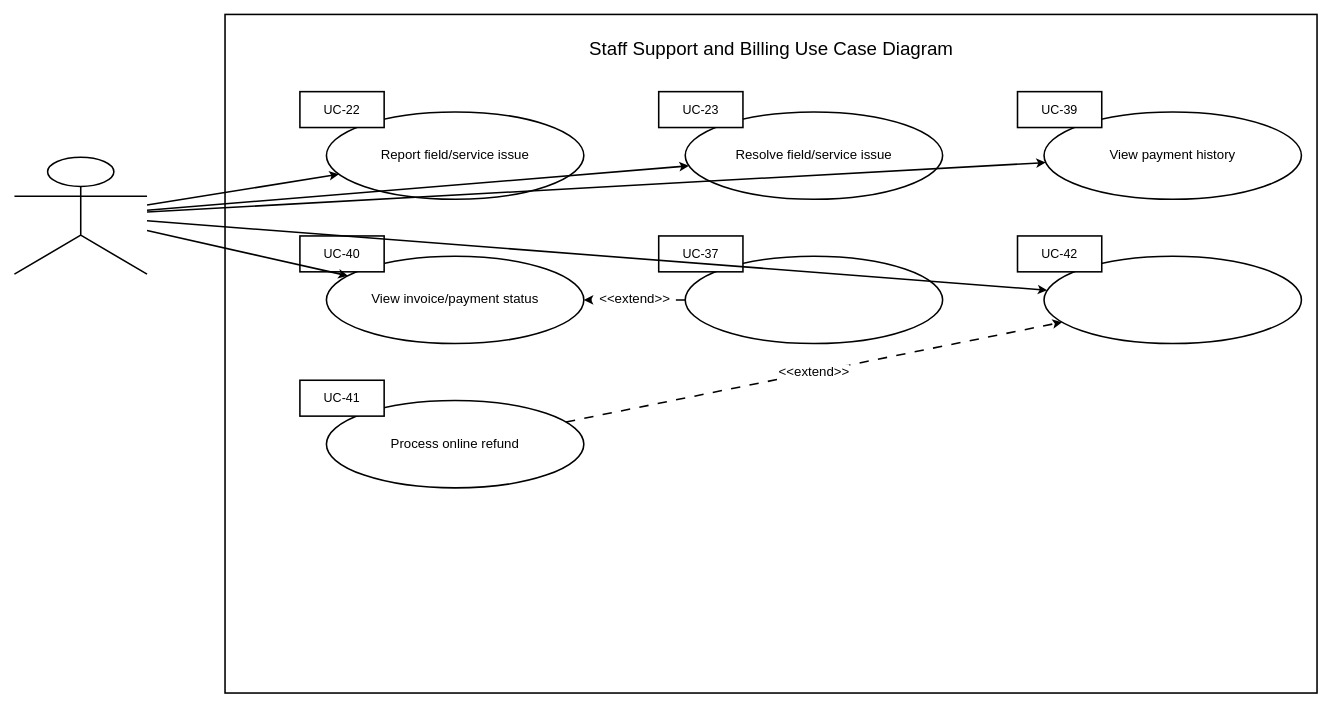
The diagram is 1331 pixels wide and 707 high, and some of its shapes have lost their labels. The centre of each missing label's shape, as x and y in pixels:
"Confirm remaining payment" goes at pixel 813 299.
"Manage refund requests" goes at pixel 1172 299.
"Venue Staff" goes at pixel 80 215.
